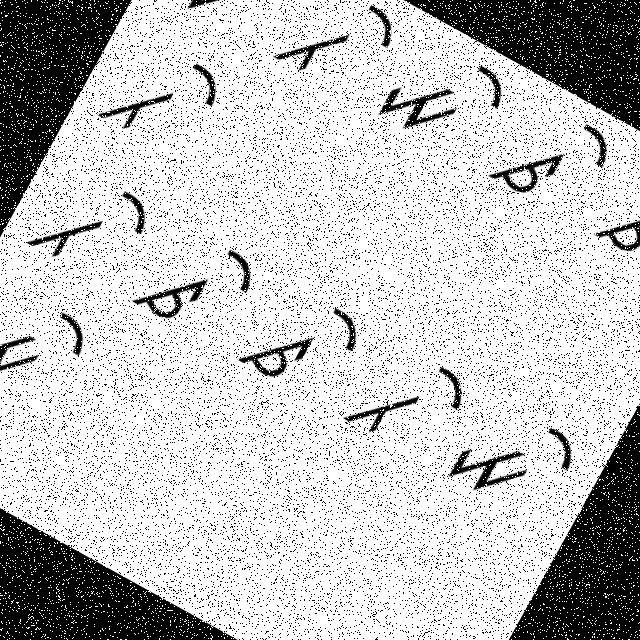bay: (326, 326, 481, 480), (16, 148, 162, 298), (89, 23, 236, 170), (262, 0, 407, 116)
cay: (120, 203, 270, 360), (234, 267, 374, 412), (483, 86, 624, 229), (590, 144, 639, 288)
may: (436, 386, 588, 536), (368, 26, 518, 172), (0, 270, 100, 415), (153, 0, 303, 49)
